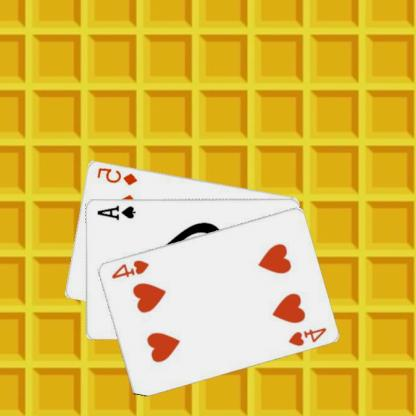4H: (287, 324, 329, 348), (110, 257, 152, 280)
5D: (96, 164, 140, 186)
AS: (96, 202, 138, 221)
